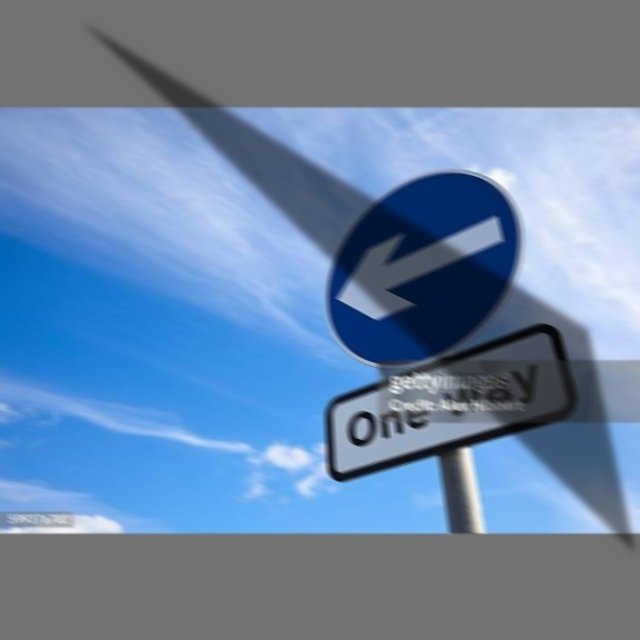Compulsory_Turn_Left: (316, 166, 521, 362)
